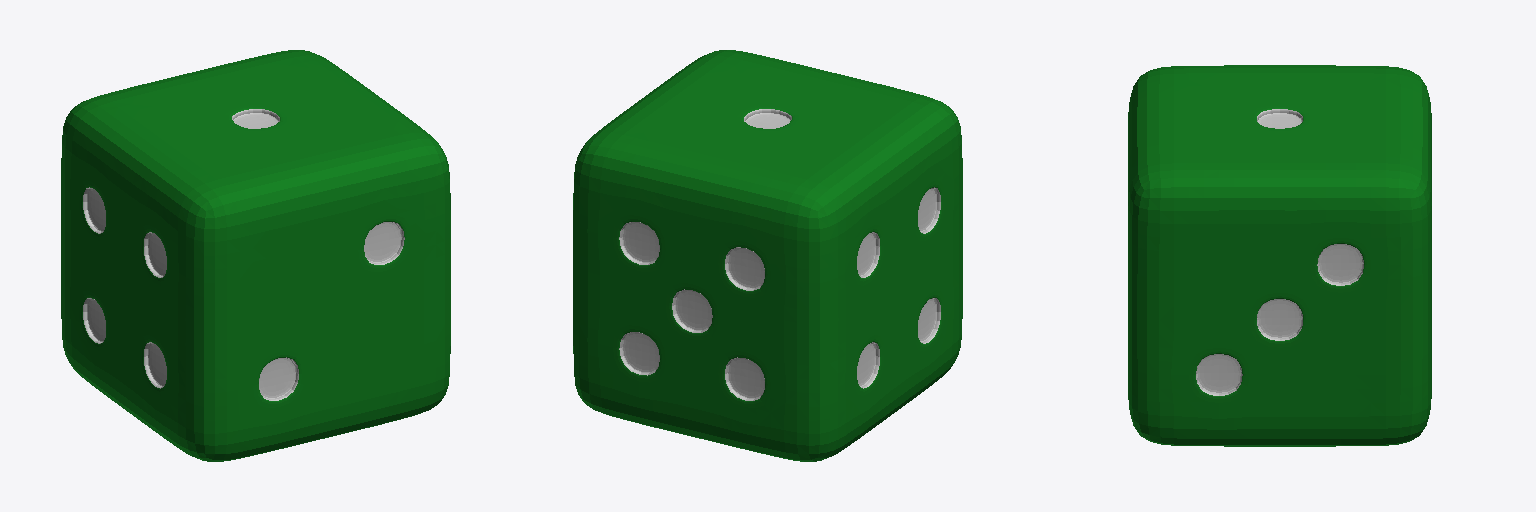
Rendered from dice.obj.
3 views of the same model, side by side, from view 1: azimuth 30°, elevation 25°; view 2: azimuth 150°, elevation 25°; view 3: azimuth 270°, elevation 25° (orthographic).
Parts seen in each view (by area): view 1: Cube.001; view 2: Cube.001; view 3: Cube.001.
Boxes of the visible parts, x1,y1,x2,y2 form: Cube.001: [61, 50, 450, 461]; Cube.001: [573, 50, 962, 461]; Cube.001: [1128, 65, 1431, 446].
Size of the model in its own units: 2 by 2 by 2.